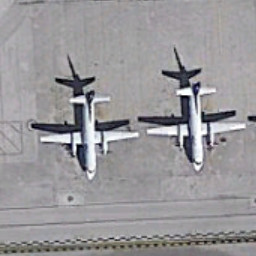Airplane: (144, 71, 251, 179), (34, 85, 144, 183)
